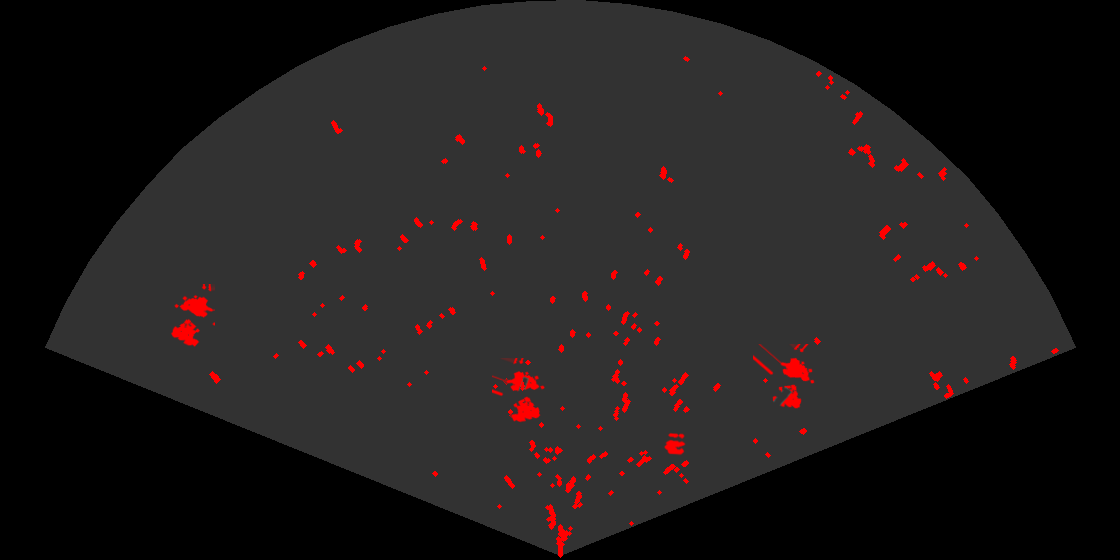ball: (663, 431, 687, 457)
cage: (753, 344, 816, 410), (492, 358, 546, 424), (169, 284, 215, 349)
